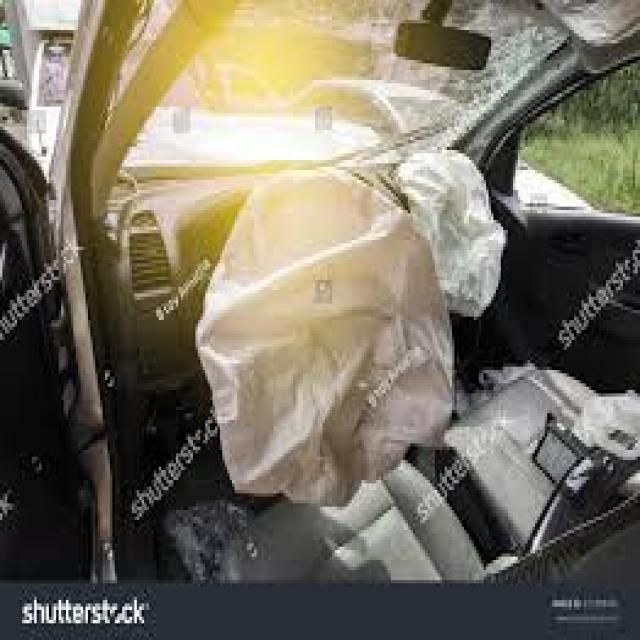damaged-windscreen: (130, 0, 538, 186)
